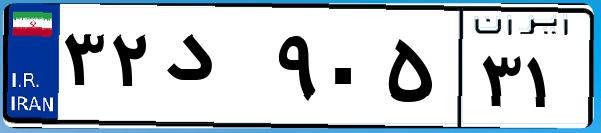0: (330, 28, 385, 110)
1: (525, 38, 570, 115)
2: (110, 28, 158, 98)
3: (57, 26, 110, 100), (475, 38, 525, 113)
5: (385, 28, 445, 110)
9: (270, 28, 330, 110)
د: (158, 20, 270, 120)
